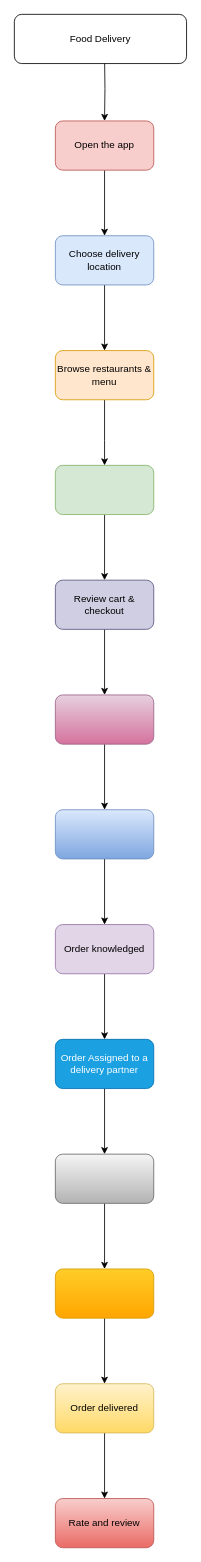
This 201x1562 diagram has some shape labels left out. Each missing label, with the centre of its shape:
"Add items to cart" goes at point 104,490.
"Confirm order & pay" goes at point 104,834.
"Delivery partner picks up the food" goes at point 104,1178.
"Real time tracking" goes at point 104,1293.
"Select payment method" goes at point 104,719.
